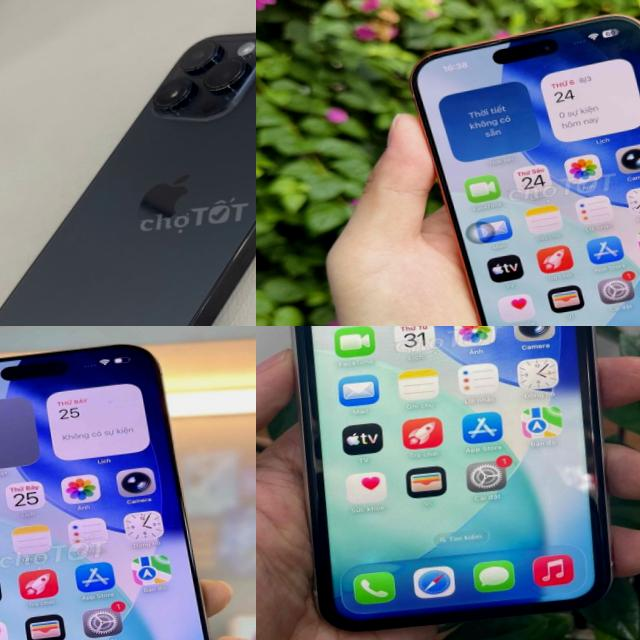gen_11: (262, 326, 640, 640)
gen_14: (0, 12, 256, 326)
gen_16: (0, 326, 241, 640)
gen_17: (394, 1, 640, 326)
